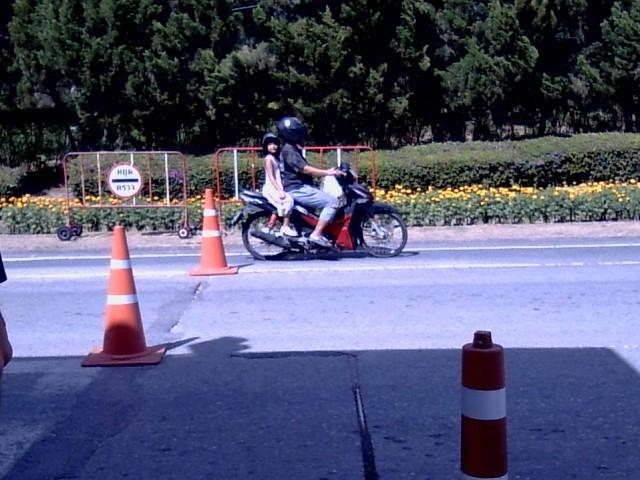helmet: (279, 115, 309, 146), (261, 134, 281, 154)
motor: (232, 162, 407, 259)
person: (277, 116, 341, 246), (262, 133, 295, 235)
